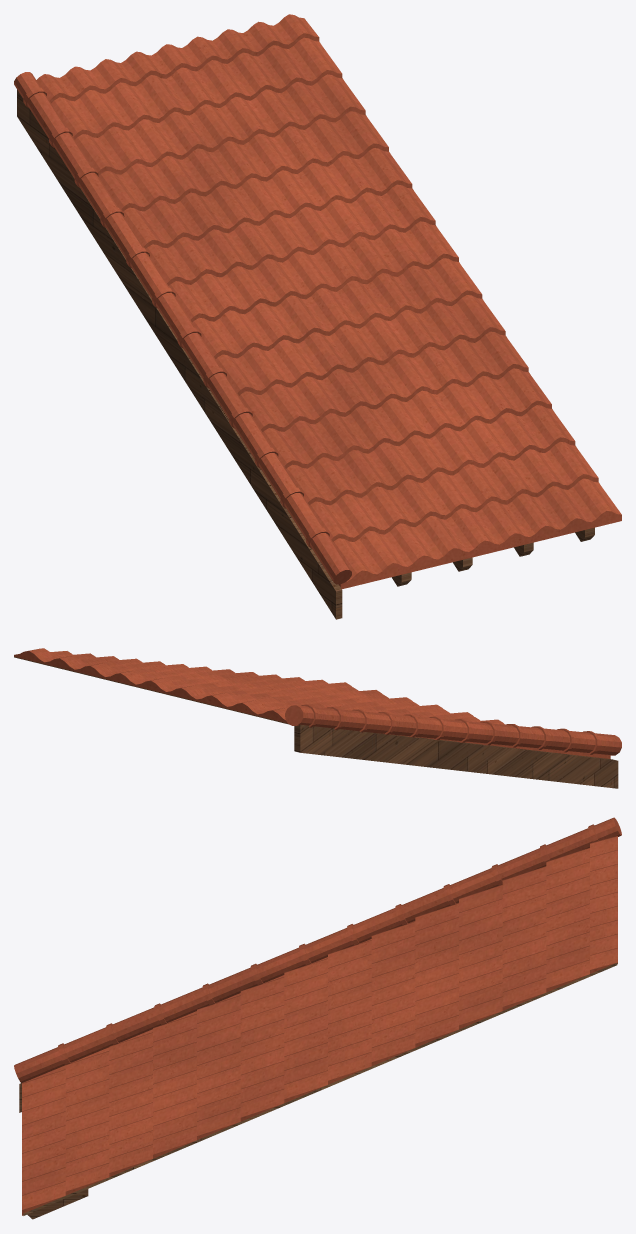
The model's file is m_roof_end_l.glb.
3 renders of one model, top to bottom at view 1: azimuth 30°, elevation 25°; view 2: azimuth 150°, elevation 25°; view 3: azimuth 270°, elevation 25°, orthographic. The views are drawn at different scales.
Parts seen in each view (by area): view 1: m_roof_end_l_tile_clay, m_roof_end_l_wood; view 2: m_roof_end_l_tile_clay, m_roof_end_l_wood, m_roof_end_l_planks; view 3: m_roof_end_l_tile_clay, m_roof_end_l_planks, m_roof_end_l_wood.
Part boxes in pixels (left/top/right/bottom): m_roof_end_l_tile_clay: left=14, top=14, right=621, bottom=589; m_roof_end_l_wood: left=17, top=89, right=594, bottom=619; m_roof_end_l_tile_clay: left=14, top=648, right=621, bottom=758; m_roof_end_l_wood: left=294, top=724, right=618, bottom=788; m_roof_end_l_planks: left=14, top=656, right=289, bottom=724; m_roof_end_l_tile_clay: left=14, top=817, right=621, bottom=1215; m_roof_end_l_planks: left=23, top=963, right=617, bottom=1215; m_roof_end_l_wood: left=19, top=1083, right=88, bottom=1219.
Bounding box in the file's own units: 2.39 × 2.46 × 4.59.
3 materials, 3 textured.
